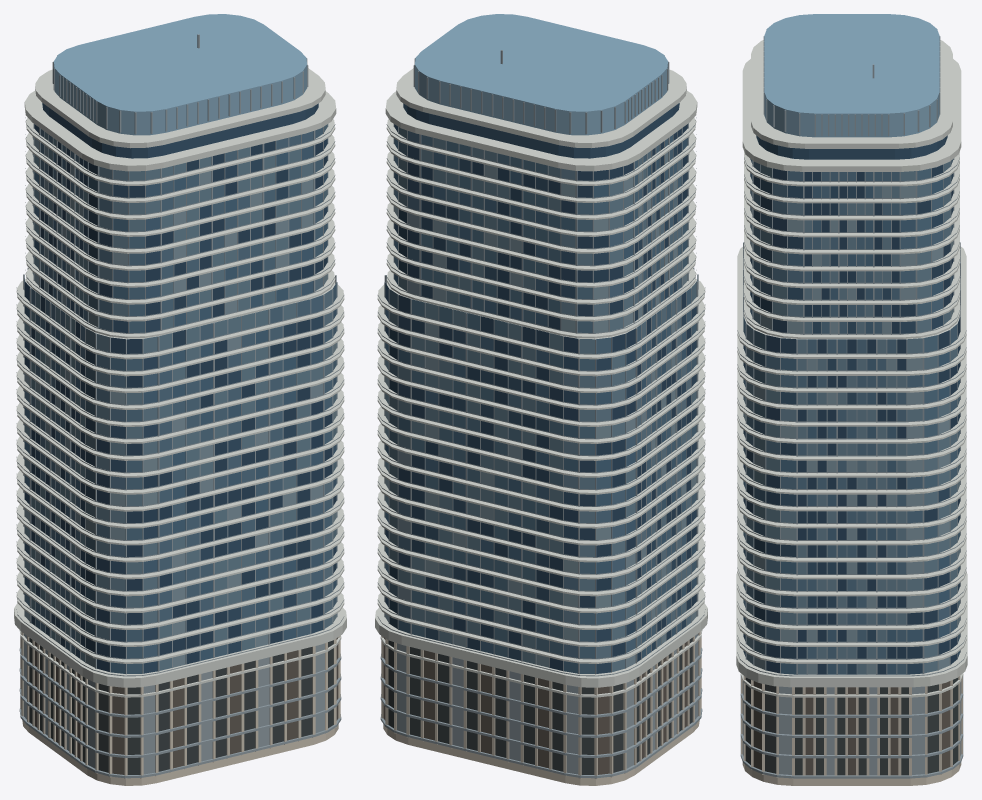
Rendered from blue-glass-tower-a.glb.
3 renders of one model, left to right at view 1: azimuth 30°, elevation 25°; view 2: azimuth 150°, elevation 25°; view 3: azimuth 270°, elevation 25°, orthographic.
Parts seen in each view (by area): view 1: Ivory slab edges (×2), Anodized aluminum (×2), Blue glazing 4, Blue glazing 2, Blue glazing 6, Pale blue rear cladding, Blue glazing 3, Pale limestone, Smoked glazing 2, Blue glazing 1, Blue glazing 5, Smoked glazing 4; view 2: Ivory slab edges (×2), Anodized aluminum (×2), Blue glazing 4, Blue glazing 2, Blue glazing 6, Pale blue rear cladding, Pale limestone, Blue glazing 3, Smoked glazing 2, Blue glazing 1, Blue glazing 5, Smoked glazing 4; view 3: Ivory slab edges (×2), Anodized aluminum (×2), Pale blue rear cladding, Blue glazing 4, Blue glazing 6, Blue glazing 2, Blue glazing 5, Pale limestone, Blue glazing 1, Smoked glazing 2, Blue glazing 3, Smoked glazing 4.
Part boxes in pixels (box(x1,y1,x2,y2)): Ivory slab edges (×2): box(14, 68, 346, 697); Anodized aluminum (×2): box(16, 34, 344, 778); Blue glazing 4: box(24, 124, 336, 670); Blue glazing 2: box(24, 127, 336, 673); Blue glazing 6: box(24, 124, 336, 671); Pale blue rear cladding: box(53, 14, 307, 135); Blue glazing 3: box(25, 103, 336, 673); Pale limestone: box(20, 632, 340, 785); Smoked glazing 2: box(29, 638, 333, 774); Blue glazing 1: box(25, 145, 336, 673); Blue glazing 5: box(25, 138, 336, 667); Smoked glazing 4: box(34, 637, 338, 774); Ivory slab edges (×2): box(375, 68, 707, 697); Anodized aluminum (×2): box(377, 50, 705, 778); Blue glazing 4: box(385, 127, 697, 671); Blue glazing 2: box(385, 131, 696, 673); Blue glazing 6: box(385, 124, 696, 670); Pale blue rear cladding: box(414, 14, 668, 135); Pale limestone: box(381, 632, 701, 785); Blue glazing 3: box(385, 103, 696, 673); Smoked glazing 2: box(388, 638, 692, 774); Blue glazing 1: box(385, 138, 696, 673); Blue glazing 5: box(385, 152, 696, 667); Smoked glazing 4: box(383, 637, 687, 774); Ivory slab edges (×2): box(736, 40, 967, 697); Anodized aluminum (×2): box(737, 29, 966, 778); Pale blue rear cladding: box(764, 14, 939, 137); Blue glazing 4: box(743, 161, 959, 674); Blue glazing 6: box(743, 164, 959, 674); Blue glazing 2: box(743, 159, 959, 674); Blue glazing 5: box(743, 185, 959, 674); Pale limestone: box(741, 676, 962, 785); Blue glazing 1: box(743, 173, 959, 674); Smoked glazing 2: box(745, 677, 958, 775); Blue glazing 3: box(743, 135, 959, 674); Smoked glazing 4: box(753, 681, 950, 775).
Bounding box in the file's own units: 3.74 × 9.36 × 2.91.
